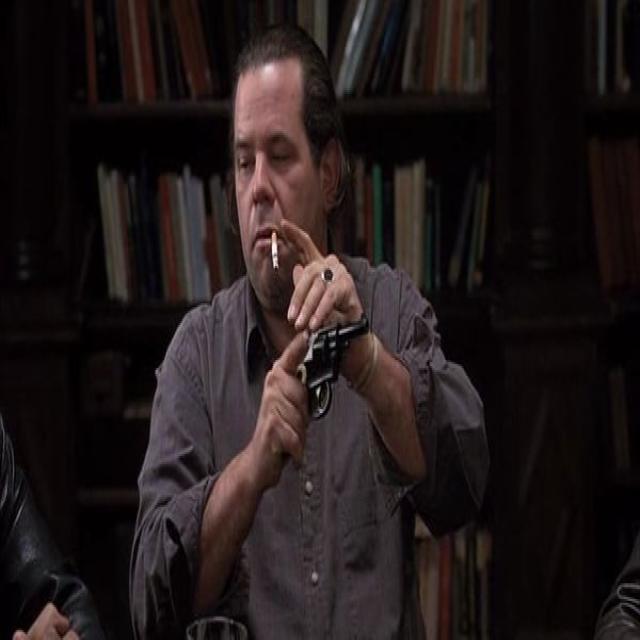weapons: (272, 290, 381, 426)
